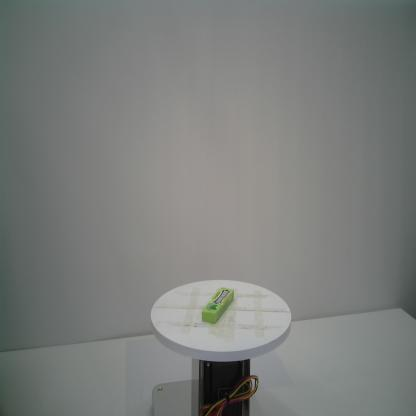Gum: (201, 286, 234, 325)
